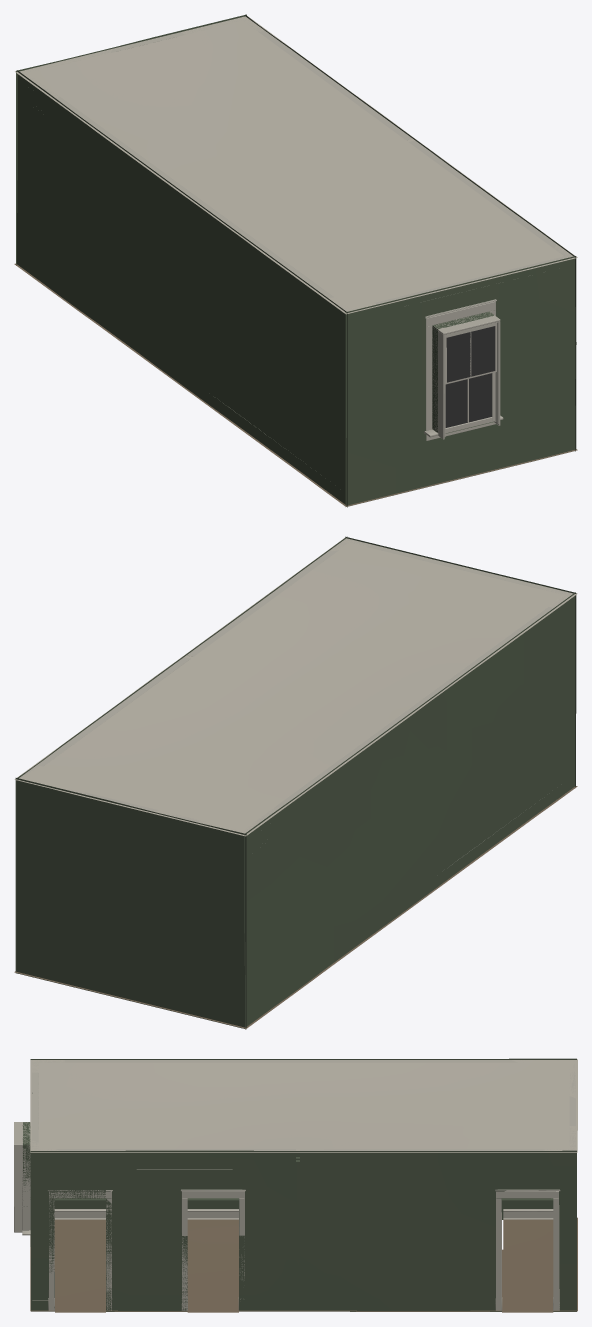
File: house_upper_hall.glb
3 renders of one model, top to bottom at view 1: azimuth 30°, elevation 25°; view 2: azimuth 150°, elevation 25°; view 3: azimuth 270°, elevation 25°, orthographic. The views are drawn at different scales.
Parts seen in each view (by area): view 1: U1, U1_glass_O_U1_S; view 2: U1; view 3: U1.
Boxes of the visible parts, <box> form: U1: <box>14,14,577,507</box>; U1_glass_O_U1_S: <box>445,326,495,427</box>; U1: <box>14,536,577,1029</box>; U1: <box>14,1058,577,1312</box>.
Bounding box in the file's own units: 3.71 × 2.95 × 9.33.
